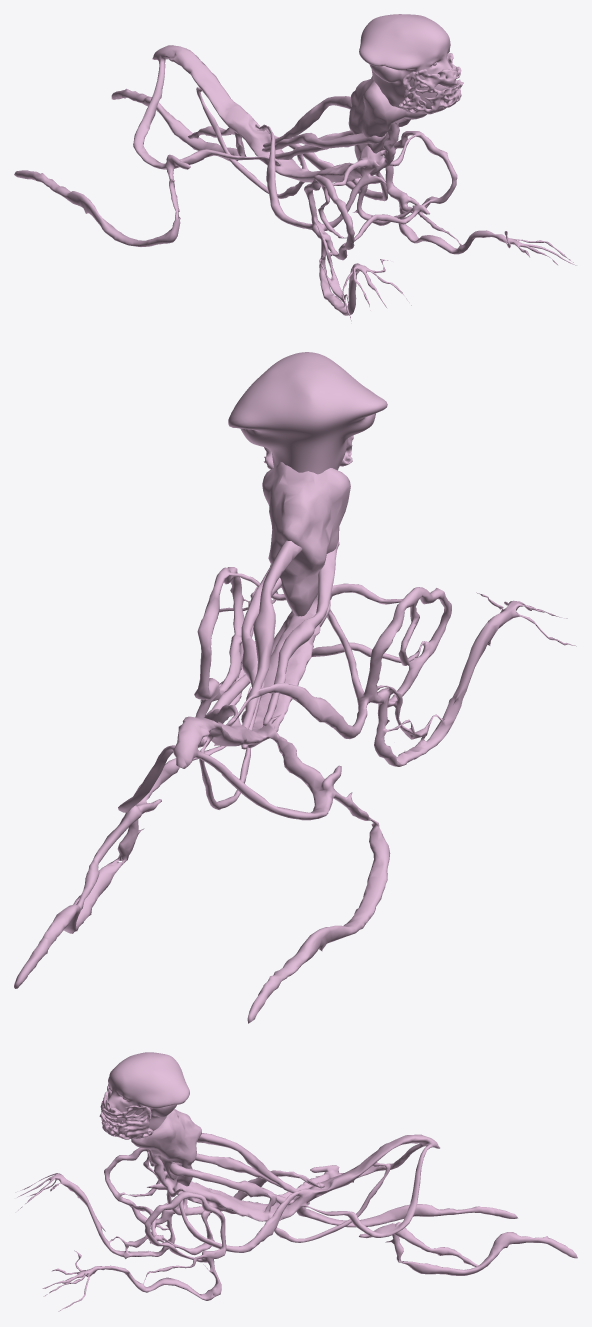
Rendered from Crawler2_v02.glb.
The picture shows the model from 3 angles, top to bottom: view 1: azimuth 30°, elevation 25°; view 2: azimuth 150°, elevation 25°; view 3: azimuth 270°, elevation 25°; orthographic projection. The views are drawn at different scales.
Parts seen in each view (by area): view 1: crawler2; view 2: crawler2; view 3: crawler2.
Boxes of the visible parts, x1=… form: crawler2: x1=14, y1=14, x2=576, y2=321; crawler2: x1=14, y1=352, x2=576, y2=1023; crawler2: x1=15, y1=1052, x2=577, y2=1311.
Size of the model in its own units: 2.71 by 2.41 by 5.21.
